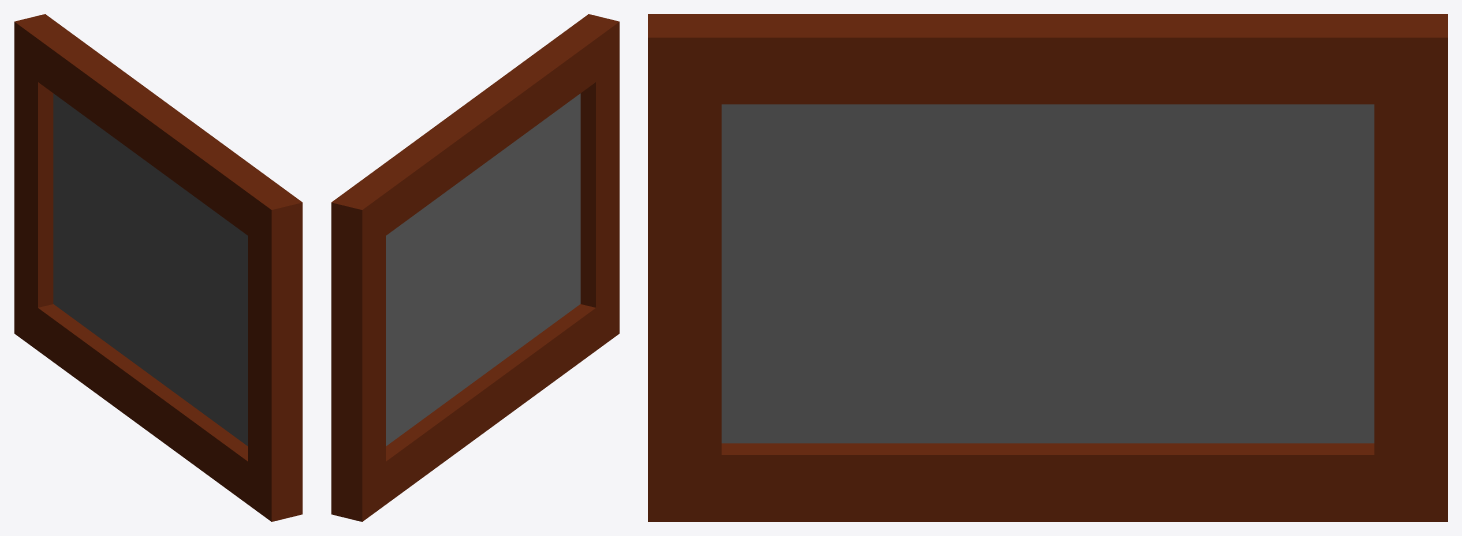
File: windowBlender.glb
3 renders of one model, left to right at view 1: azimuth 30°, elevation 25°; view 2: azimuth 150°, elevation 25°; view 3: azimuth 270°, elevation 25°, orthographic. The views are drawn at different scales.
Visible parts, largest first — view 1: Frame, Glass; view 2: Frame, Glass; view 3: Glass, Frame.
Part boxes in pixels (box(x1,y1,x2,y2)): Frame: box(14, 14, 302, 521); Glass: box(53, 93, 247, 445); Frame: box(331, 14, 619, 521); Glass: box(386, 93, 580, 445); Glass: box(721, 104, 1374, 443); Frame: box(648, 14, 1447, 521).
Size of the model in its own units: 0.9054 by 8.69 by 13.
